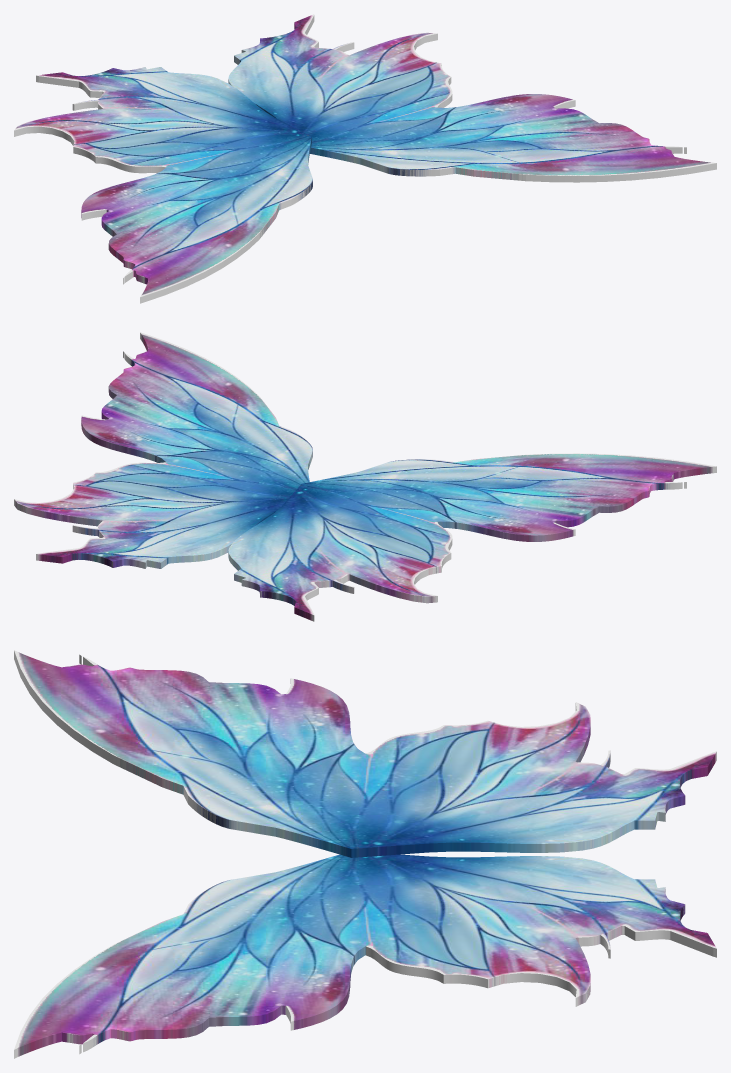
The model's file is Butterfly.glb.
3 renders of one model, top to bottom at view 1: azimuth 30°, elevation 25°; view 2: azimuth 150°, elevation 25°; view 3: azimuth 270°, elevation 25°, orthographic. The views are drawn at different scales.
Parts seen in each view (by area): view 1: Shape003, Shape002; view 2: Shape003, Shape002; view 3: Shape003, Shape002.
Part boxes in pixels (x1=…): Shape003: x1=14, y1=67, x2=312, y2=303; Shape002: x1=228, y1=14, x2=716, y2=182; Shape003: x1=228, y1=453, x2=716, y2=621; Shape002: x1=14, y1=332, x2=312, y2=568; Shape003: x1=14, y1=650, x2=716, y2=857; Shape002: x1=14, y1=854, x2=716, y2=1058.
Size of the model in its own units: 0.0671 by 0.00144 by 0.051.
1 material, 1 textured.
